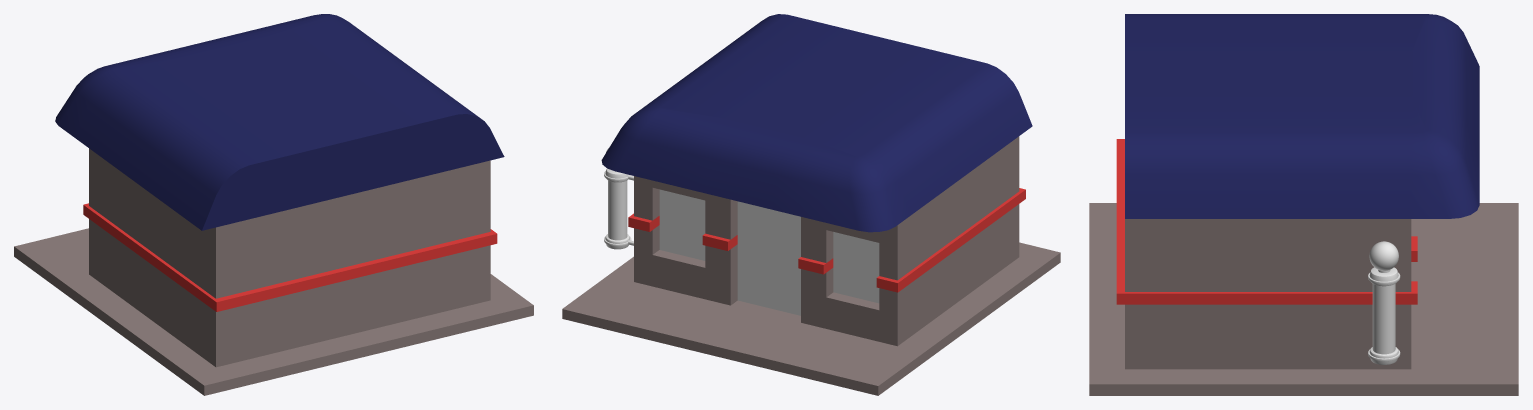
File: Barber_Shop.fbx
The picture shows the model from 3 angles, left to right: view 1: azimuth 30°, elevation 25°; view 2: azimuth 150°, elevation 25°; view 3: azimuth 270°, elevation 25°; orthographic projection. The views are drawn at different scales.
Parts seen in each view (by area): view 1: Cube; view 2: Cube, Cylinder, Cylinder.001; view 3: Cube, Cylinder, Cylinder.001, Sphere.
Part boxes in pixels (bbox=[...]): Cube: bbox=[14, 14, 533, 395]; Cube: bbox=[562, 14, 1060, 395]; Cylinder: bbox=[608, 180, 627, 240]; Cylinder.001: bbox=[604, 168, 631, 249]; Cube: bbox=[1089, 14, 1518, 395]; Cylinder: bbox=[1372, 284, 1395, 354]; Cylinder.001: bbox=[1368, 267, 1400, 364]; Sphere: bbox=[1369, 241, 1398, 270].
Size of the model in its own units: 17.52 by 9.95 by 16.8.
